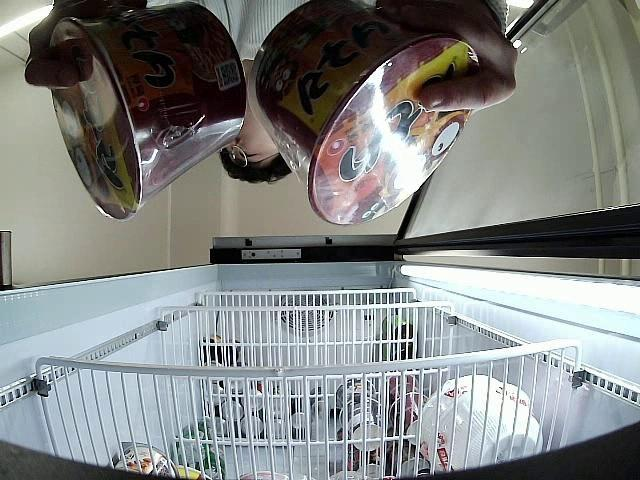05_nuguri_L: (247, 0, 483, 225), (46, 0, 245, 222)
